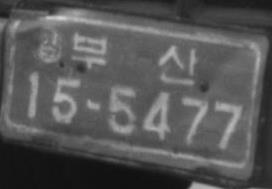-: (83, 98, 103, 113)
1: (17, 71, 47, 117)
4: (141, 90, 174, 142)
5: (107, 83, 138, 136), (50, 74, 80, 125)
7: (213, 99, 244, 151), (181, 94, 210, 144)
부산_D: (70, 29, 199, 87)
영: (31, 26, 67, 67)
